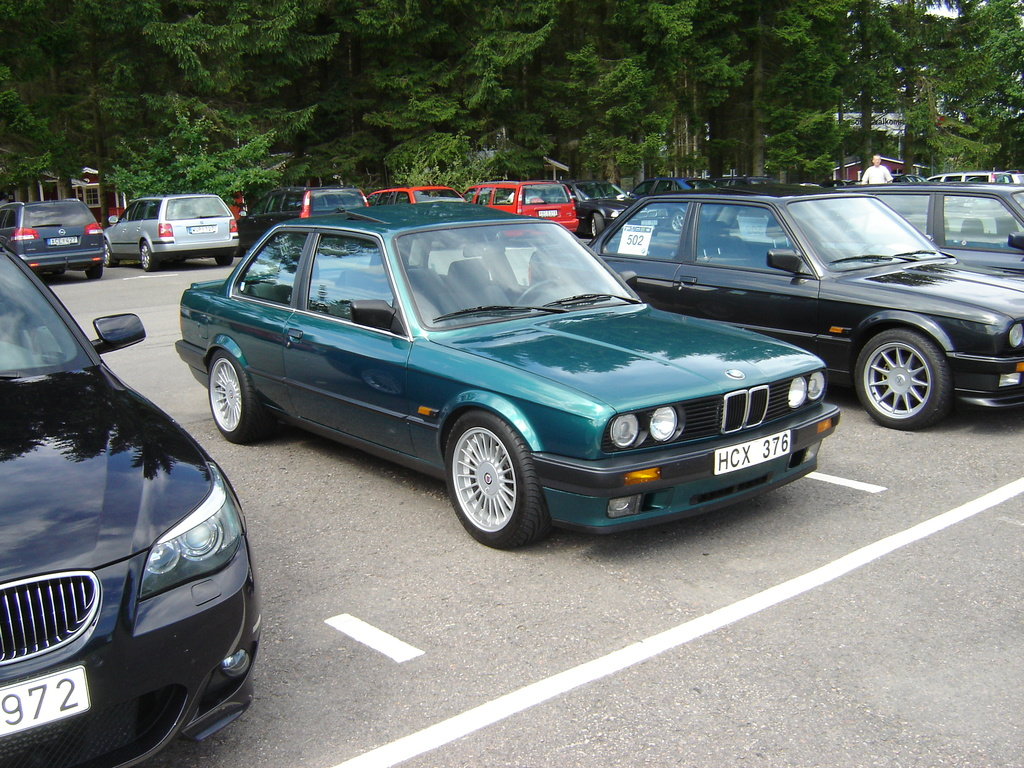Car: (160, 213, 846, 547), (0, 251, 261, 767), (532, 177, 1023, 428), (97, 184, 238, 271), (0, 202, 106, 289), (248, 184, 375, 246), (463, 179, 574, 231), (579, 172, 643, 226), (631, 169, 729, 196), (368, 179, 460, 197)
